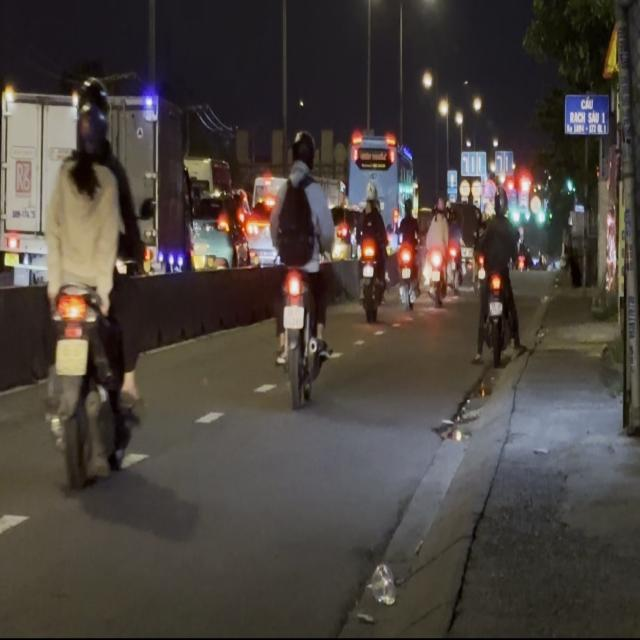helmet: (71, 102, 108, 164), (75, 76, 109, 121), (289, 128, 315, 168)
licenseplate: (39, 76, 144, 489), (266, 126, 337, 404)
nohelmet: (55, 338, 87, 374), (283, 305, 303, 327)
